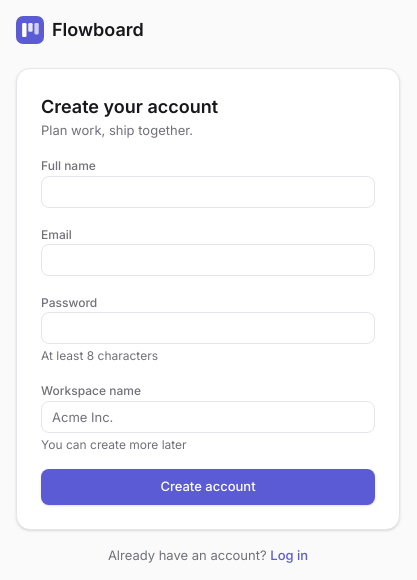
AuthPage › renders field-level validation errors on sign up
Type "Ava" into the field labelled "Full name". click: (208, 192)
box: [41, 176, 375, 208]
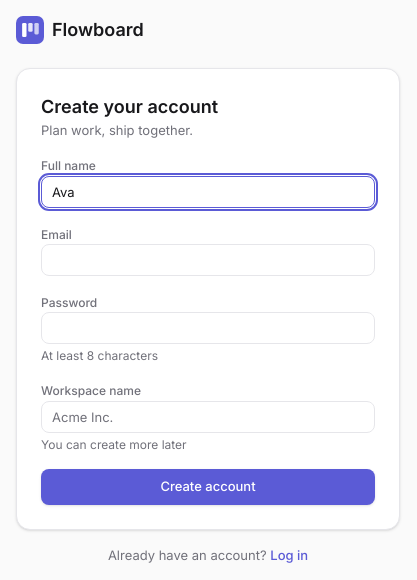
Type "ava@test.dev" into the field labelled "Email". click: (208, 260)
box: [41, 244, 375, 276]
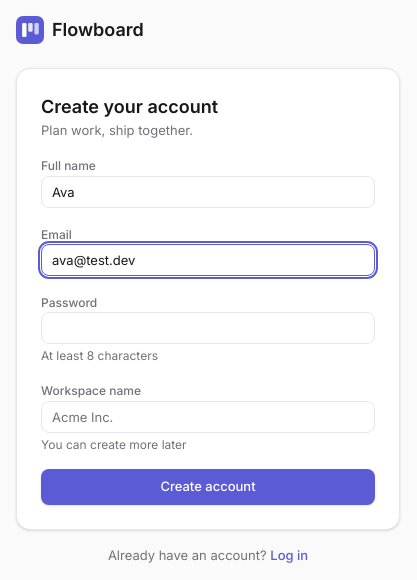
Type "short" into the password field labelled "Password At least 8 characters". click: (208, 328)
box: [41, 312, 375, 344]
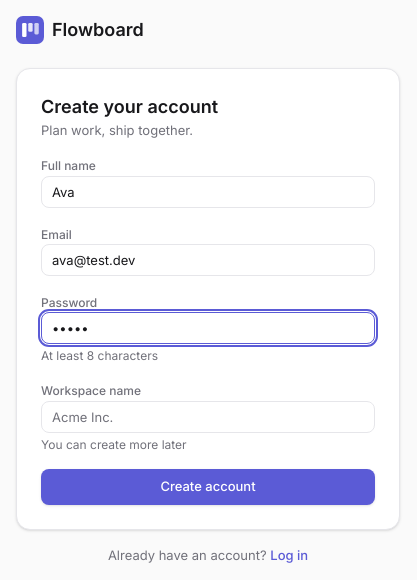
Click the button "Create account". click: (208, 487)
box: [41, 469, 375, 505]
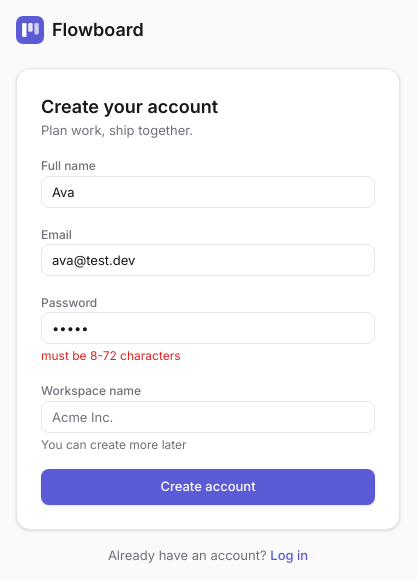
Check: the text "must be 8-72 characters" is shown, box [41, 348, 181, 363]
